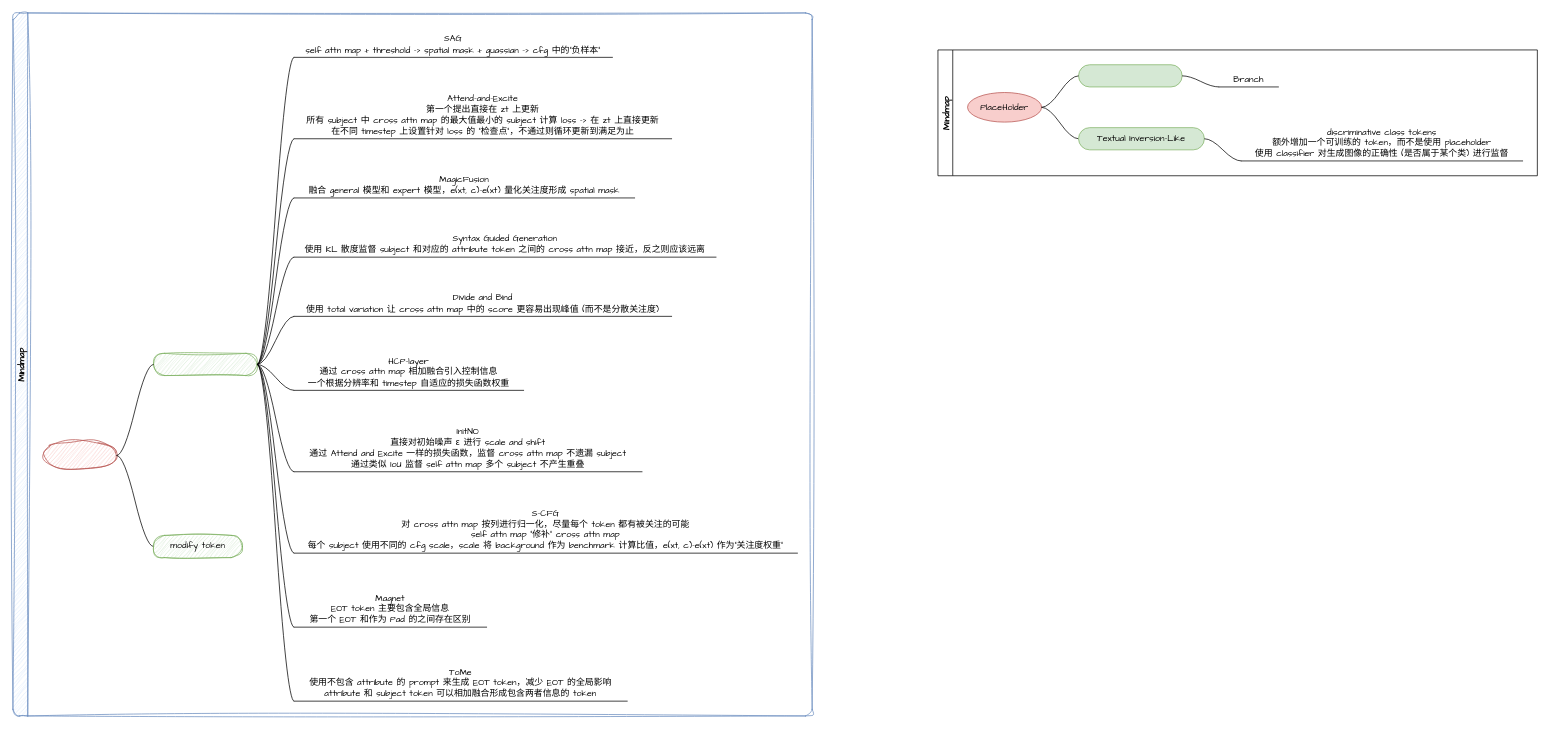
This 1550x729 diagram has some shape labels left out. The centre of each missing label's shape, as x and y in pixels:
"Attn Map" belongs at (x=79, y=455).
"DreamBooth-Like" belongs at (x=1130, y=75).
"enhance attn map" belongs at (x=205, y=364).
